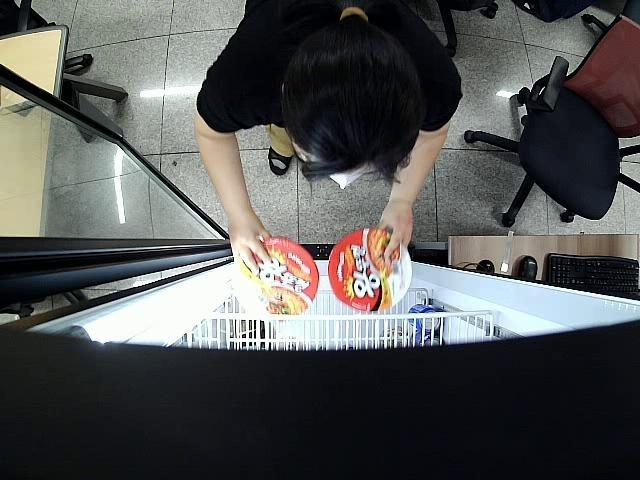10_wangTtukkeong: (231, 239, 318, 321), (328, 228, 412, 311)
